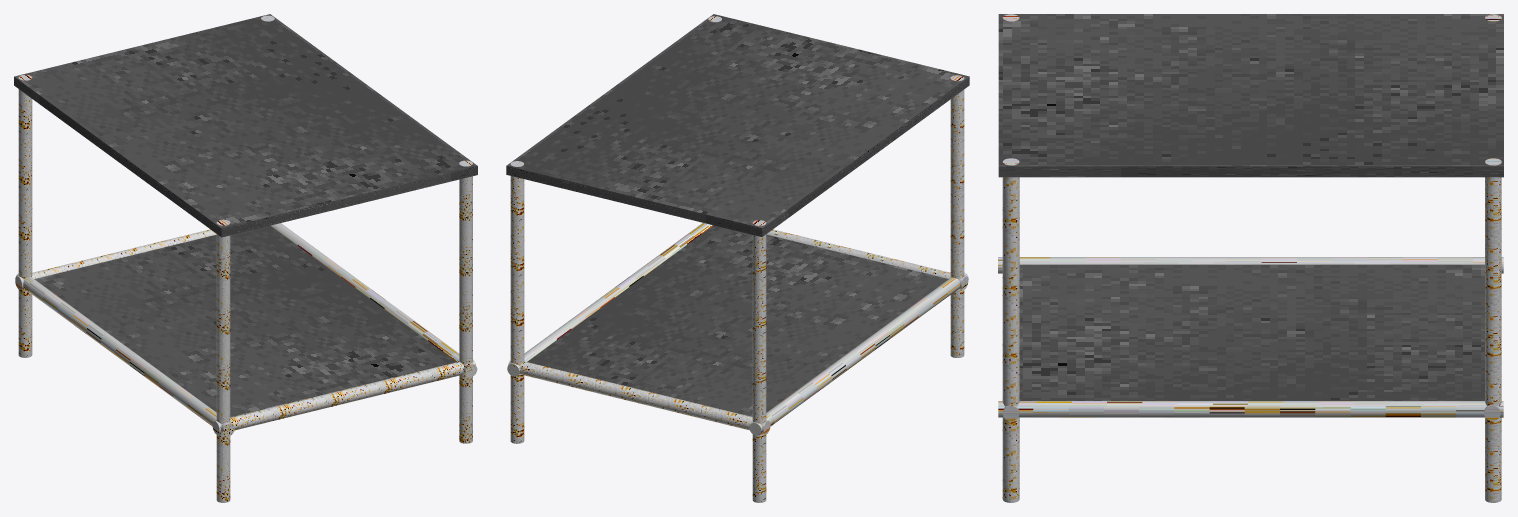
The model's file is table.glb.
The picture shows the model from 3 angles, left to right: view 1: azimuth 30°, elevation 25°; view 2: azimuth 150°, elevation 25°; view 3: azimuth 270°, elevation 25°; orthographic projection. The views are drawn at different scales.
Visible parts, largest first — view 1: Куб.001, Цилиндр.004; view 2: Куб.001, Цилиндр.004; view 3: Куб.001, Цилиндр.004.
Boxes of the visible parts, left/top/right/bottom form: Куб.001: left=14, top=14, right=477, bottom=417; Цилиндр.004: left=15, top=15, right=477, bottom=502; Куб.001: left=506, top=14, right=969, bottom=416; Цилиндр.004: left=507, top=16, right=968, bottom=502; Куб.001: left=998, top=14, right=1503, bottom=400; Цилиндр.004: left=998, top=14, right=1503, bottom=502.
Bounding box in the file's own units: 14.08 × 14.53 × 19.72.
Materials: 2 (2 with a texture image).
